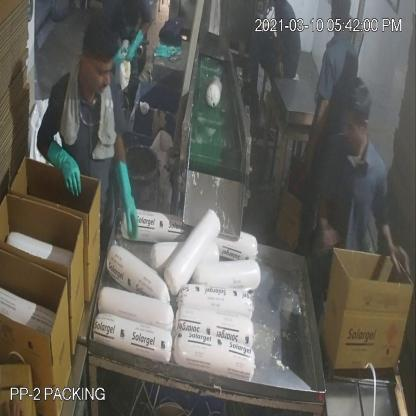glove: (112, 149, 148, 243), (46, 139, 91, 209)
no_glove: (296, 88, 339, 191), (377, 208, 416, 292), (316, 193, 346, 264)
